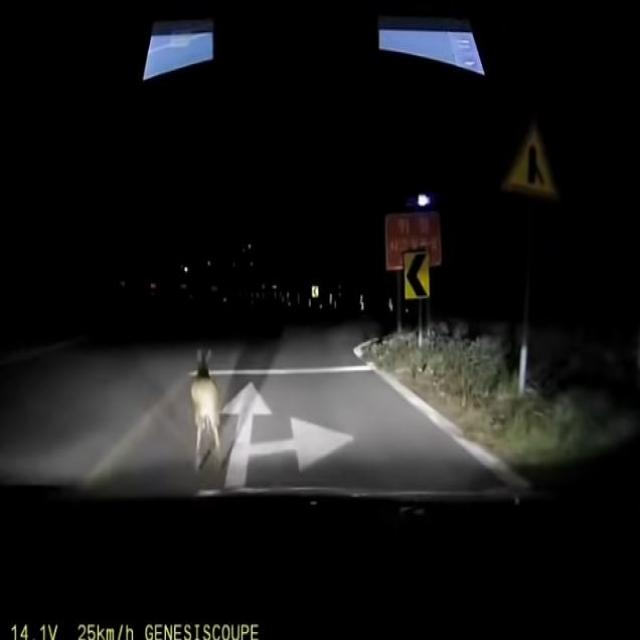elk: (161, 321, 249, 480)
